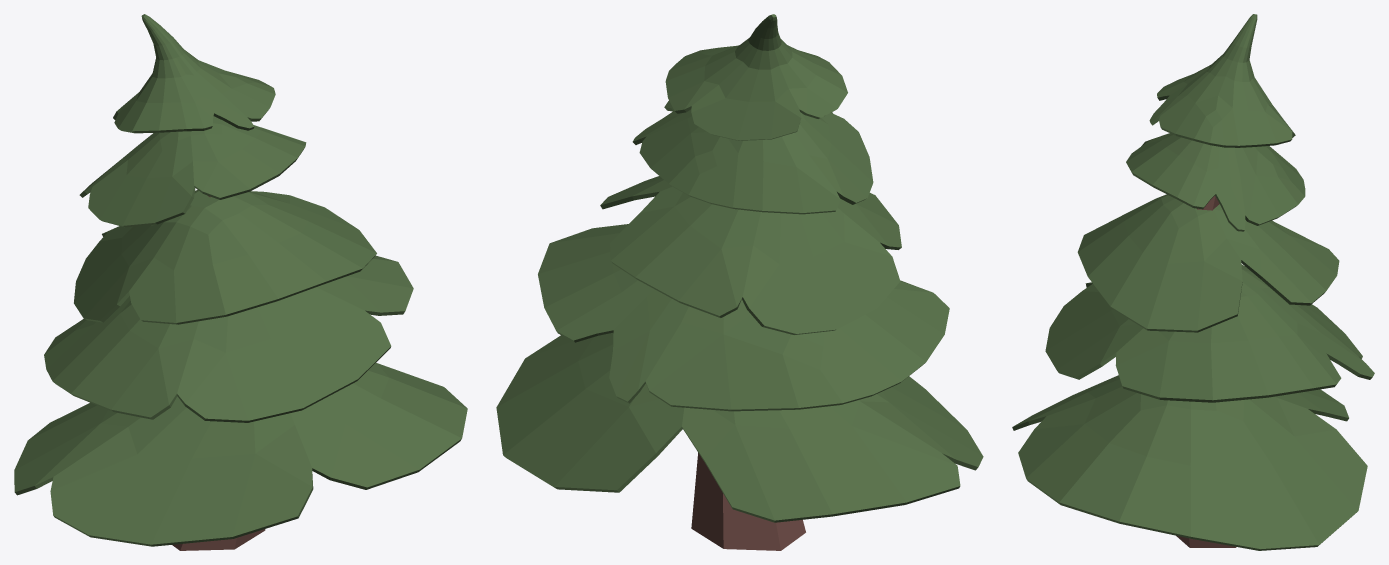
File: pine_5.glb
3 renders of one model, left to right at view 1: azimuth 30°, elevation 25°; view 2: azimuth 150°, elevation 25°; view 3: azimuth 270°, elevation 25°, orthographic. The views are drawn at different scales.
Parts seen in each view (by area): view 1: PineTree_1; view 2: PineTree_1; view 3: PineTree_1.
Part boxes in pixels (<box>): PineTree_1: <box>14,14,467,550</box>; PineTree_1: <box>496,14,983,550</box>; PineTree_1: <box>1012,14,1374,550</box>.
Bounding box in the file's own units: 5.4 × 6.3 × 4.2.
